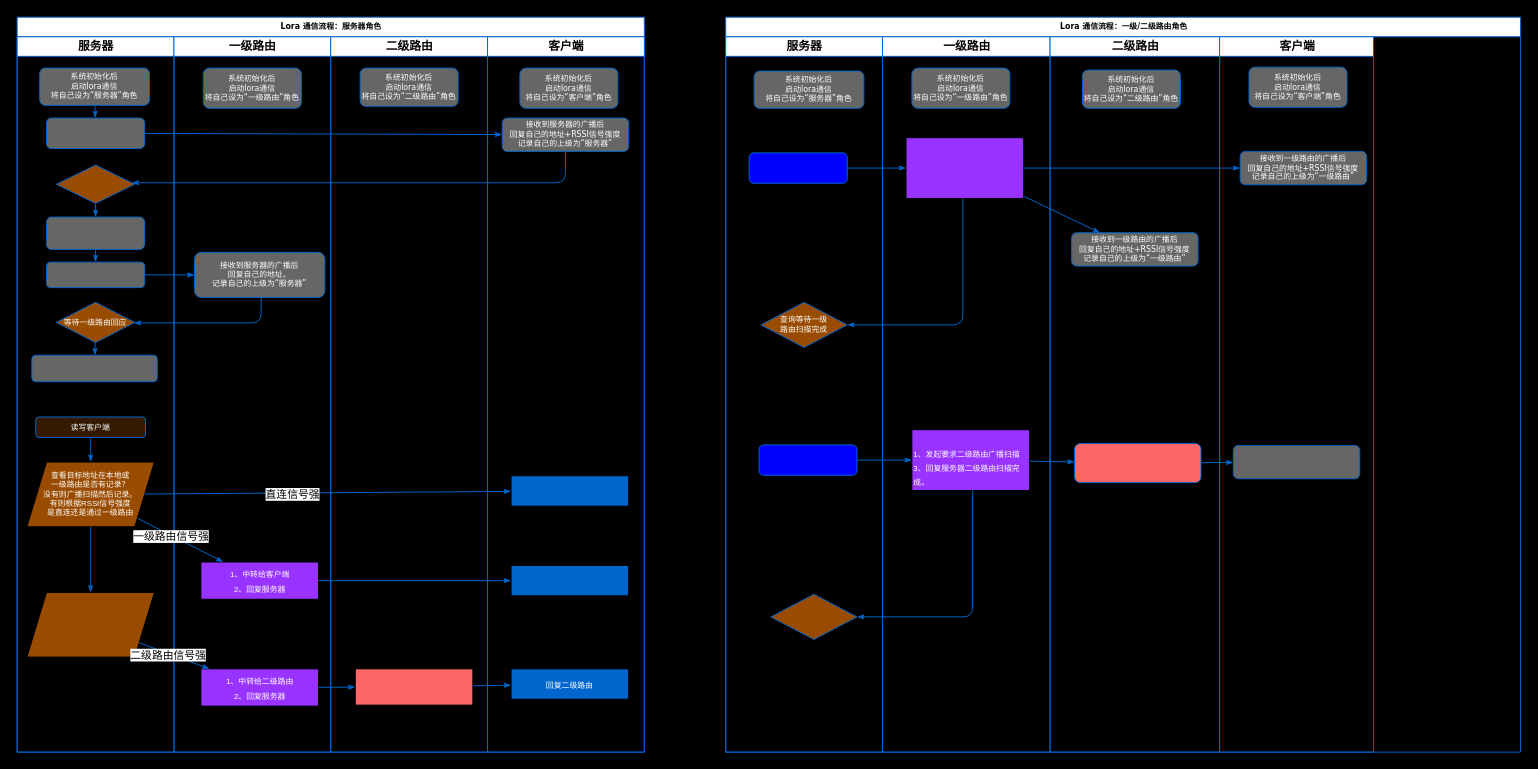
This 1538x769 diagram has some shape labels left out. The shapes that lost their labels are listed below. From the top down, each one's centre as x and y in pixels, then its label:
At point (95, 132): "广播扫描 客户端".
At point (95, 183): "等待客户端回应".
At point (797, 167): "发起要求一级路由 广播扫描".
At point (964, 167): "1、扫描客户端节点 2、扫描二级路由节点 3、回复服务器扫描得到的路由表。".
At point (95, 232): "有可连接的客户端则 记录起来".
At point (95, 274): "广播 扫描一级路由".
At point (94, 368): "有可连接的一级路由则 把路由表记录起来".
At point (807, 459): "发起要求二级路由 广播扫描".
At point (1137, 462): "1、扫描客户端节点 2、将扫描得到的客户端节点 回复给一级路由。".
At point (1296, 461): "接收到一级路由的广播后 回复自己的地址+RSSI信号强度 记录自己的上级为“二级路由”".
At point (569, 490): "回复服务器".
At point (569, 580): "回复一级路由".
At point (90, 624): "直连和一级路由都没有则 查询二级路由有没有连接 如果没有则启动扫描， 有就进行二级路由中转。 如果都有则按信号强的来 通信。".
At point (813, 616): "查询等待二级 路由扫描完成".
At point (413, 686): "1、中转给客户端 2、回复一级路由".
